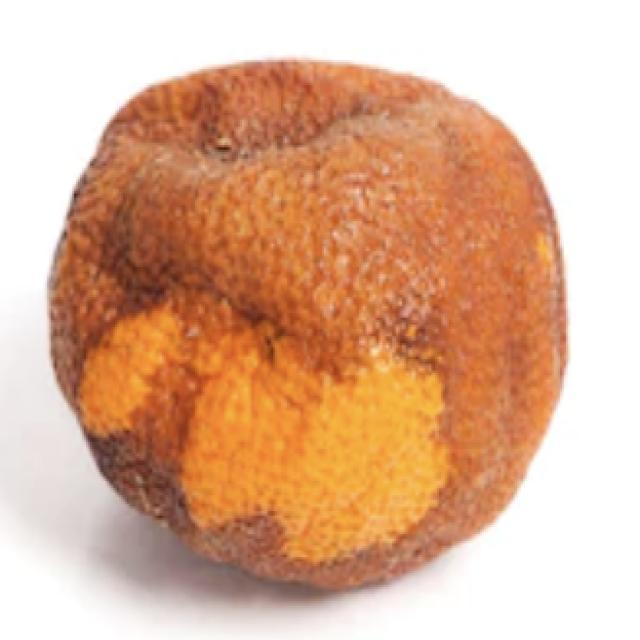sangat-busuk: (49, 61, 566, 589)
